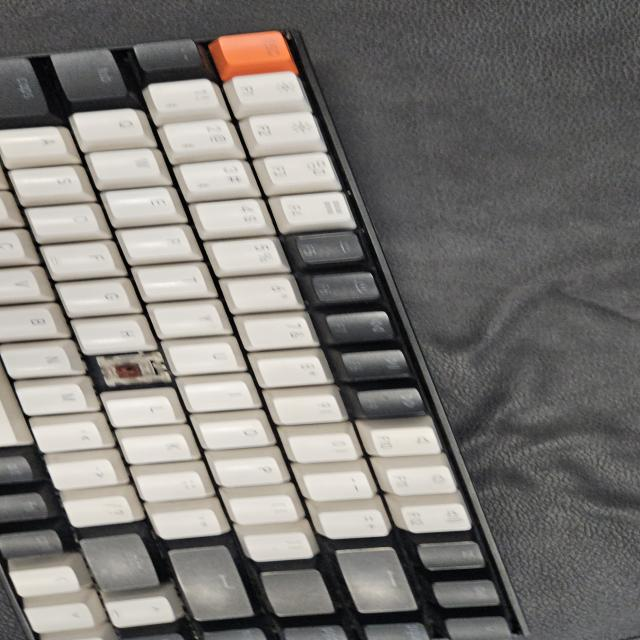C: (97, 356, 154, 382)
